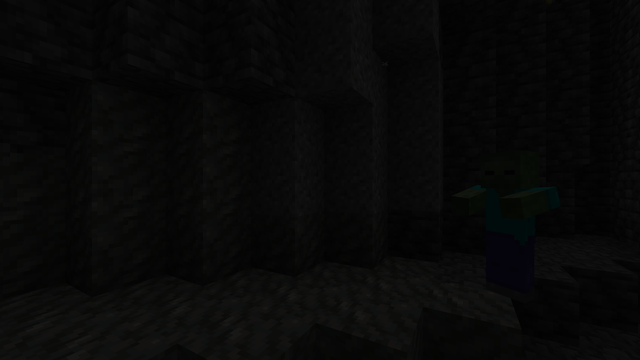zombies: (483, 153, 541, 307)
